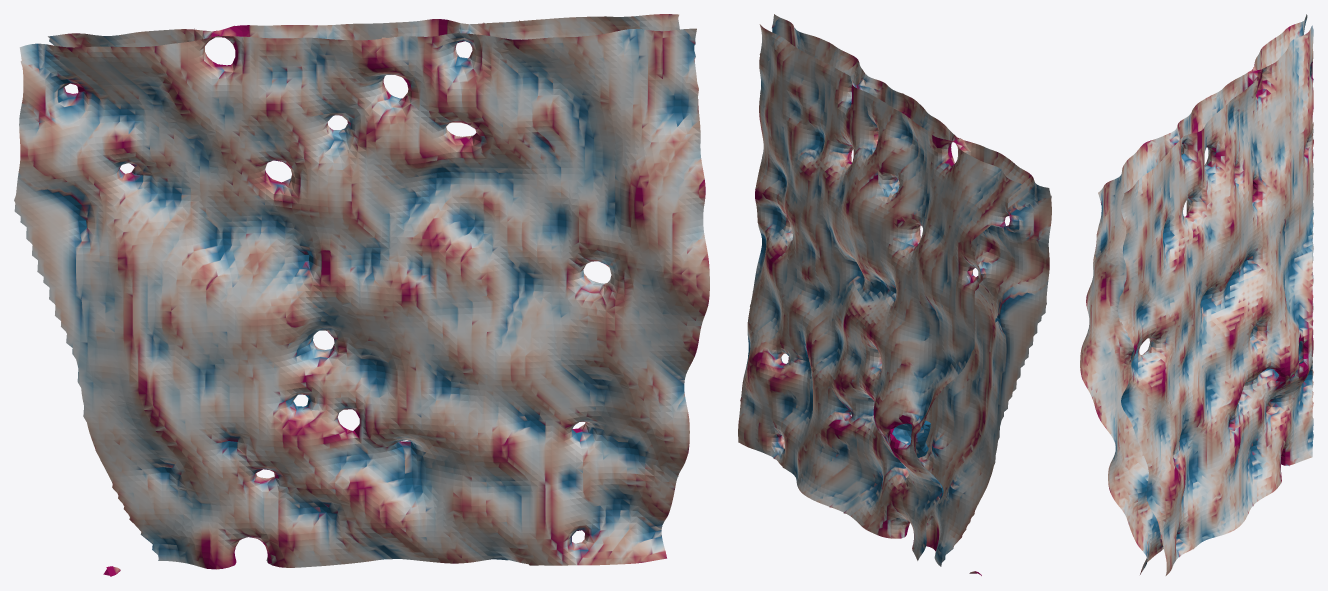
File: crop1032_curvature.glb
The picture shows the model from 3 angles, left to right: view 1: azimuth 30°, elevation 25°; view 2: azimuth 150°, elevation 25°; view 3: azimuth 270°, elevation 25°; orthographic projection. The views are drawn at different scales.
Parts seen in each view (by area): view 1: world; view 2: world; view 3: world.
Part boxes in pixels (x1,y1,x2,y2): world: (14,14,709,576); world: (738,14,1051,575); world: (1080,14,1313,575).
Size of the model in its own units: 1480 by 1480 by 813.
